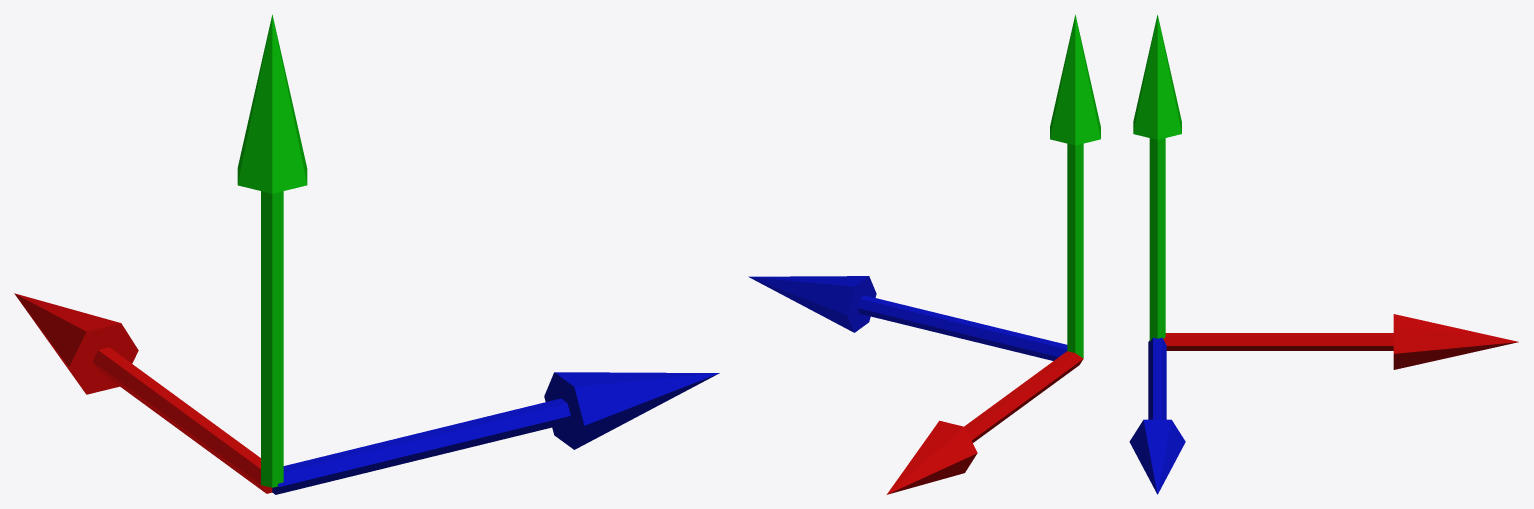
The model's file is axis.obj.
The picture shows the model from 3 angles, left to right: view 1: azimuth 30°, elevation 25°; view 2: azimuth 150°, elevation 25°; view 3: azimuth 270°, elevation 25°; orthographic projection. The views are drawn at different scales.
Visible parts, largest first — view 1: x_Cylinder.007_x_Cylinder.002, x_Cylinder.007_x_Cylinder.008, x_Cylinder.007_x_Cylinder.004; view 2: x_Cylinder.007_x_Cylinder.002, x_Cylinder.007_x_Cylinder.008, x_Cylinder.007_x_Cylinder.004; view 3: x_Cylinder.007_x_Cylinder.004, x_Cylinder.007_x_Cylinder.008, x_Cylinder.007_x_Cylinder.002.
Boxes of the visible parts, x1,y1,x2,y2 form: x_Cylinder.007_x_Cylinder.002: (272, 372, 719, 494); x_Cylinder.007_x_Cylinder.008: (237, 14, 307, 487); x_Cylinder.007_x_Cylinder.004: (14, 293, 272, 493); x_Cylinder.007_x_Cylinder.002: (748, 276, 1067, 360); x_Cylinder.007_x_Cylinder.008: (1050, 14, 1100, 358); x_Cylinder.007_x_Cylinder.004: (886, 351, 1083, 494); x_Cylinder.007_x_Cylinder.004: (1163, 314, 1518, 369); x_Cylinder.007_x_Cylinder.008: (1133, 15, 1181, 341); x_Cylinder.007_x_Cylinder.002: (1129, 337, 1185, 494).
Size of the model in its own units: 3.31 by 3.27 by 3.31.
